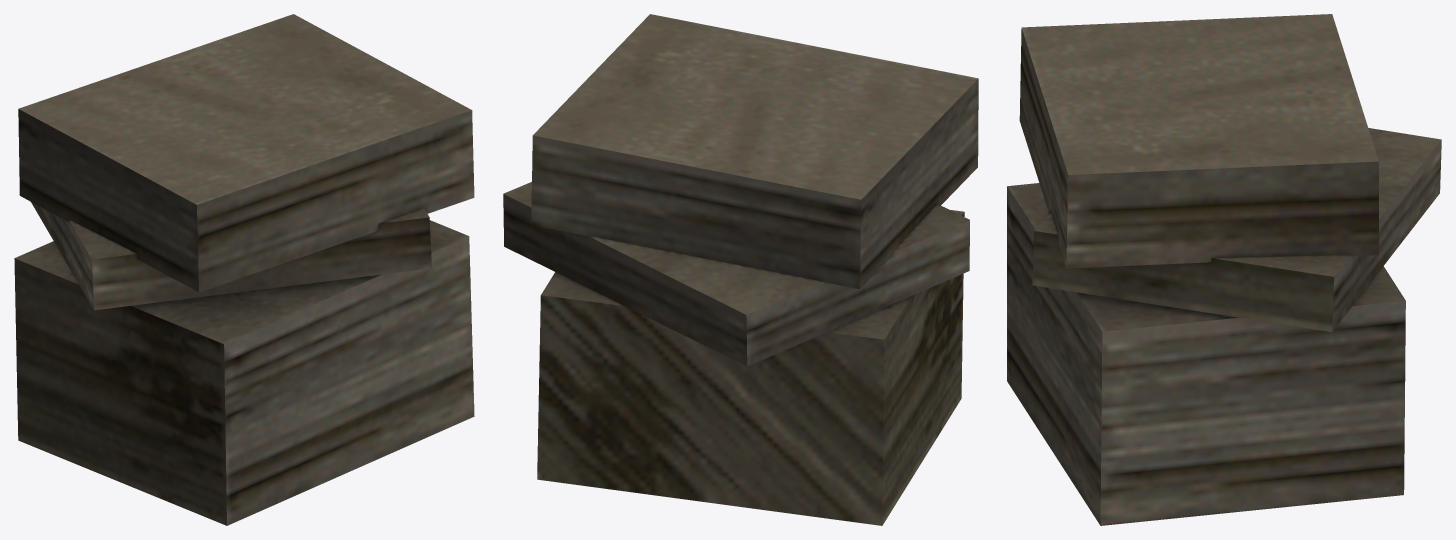
The model's file is construction.002_construction_assets_0_lev3.glb.
3 renders of one model, left to right at view 1: azimuth 30°, elevation 25°; view 2: azimuth 150°, elevation 25°; view 3: azimuth 270°, elevation 25°, orthographic. The views are drawn at different scales.
Parts seen in each view (by area): view 1: construction.002_construction_assets_0_lev3; view 2: construction.002_construction_assets_0_lev3; view 3: construction.002_construction_assets_0_lev3.
Part boxes in pixels (x1=…): construction.002_construction_assets_0_lev3: x1=14, y1=14, x2=474, y2=525; construction.002_construction_assets_0_lev3: x1=503, y1=14, x2=978, y2=525; construction.002_construction_assets_0_lev3: x1=1007, y1=14, x2=1441, y2=525.
Size of the model in its own units: 3.36 by 2.93 by 3.28.
Materials: 1 (1 with a texture image).
